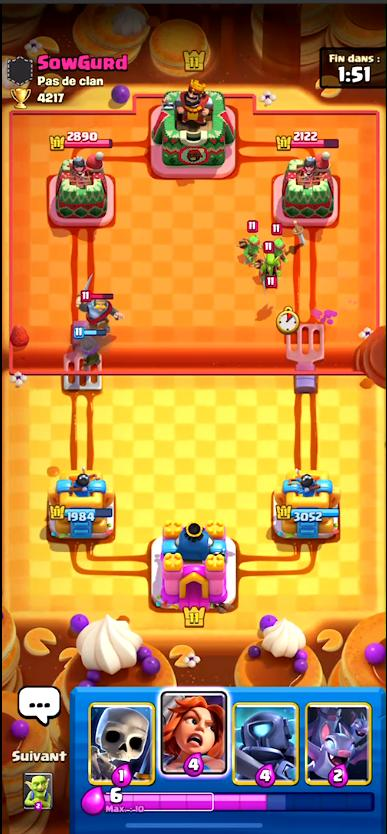chevalier: (76, 274, 123, 328)
gobelin: (264, 248, 280, 280)
gobelin_lances: (242, 224, 260, 266), (271, 224, 287, 265)
mousquetaire: (75, 330, 103, 366)
